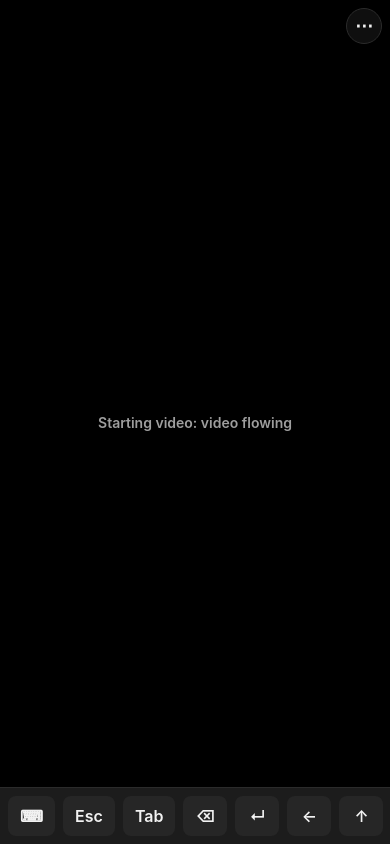
Test: RemoteScreen › the stats overlay › reports the live WebRTC numbers behind the Stats toggle
Click the text "⋯" at (364, 26), box [355,16,373,36]
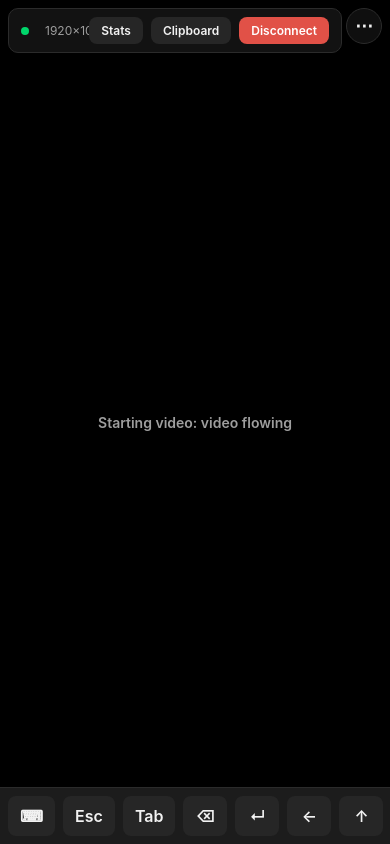
Click the text "Stats" at (116, 30), box [101,23,131,38]
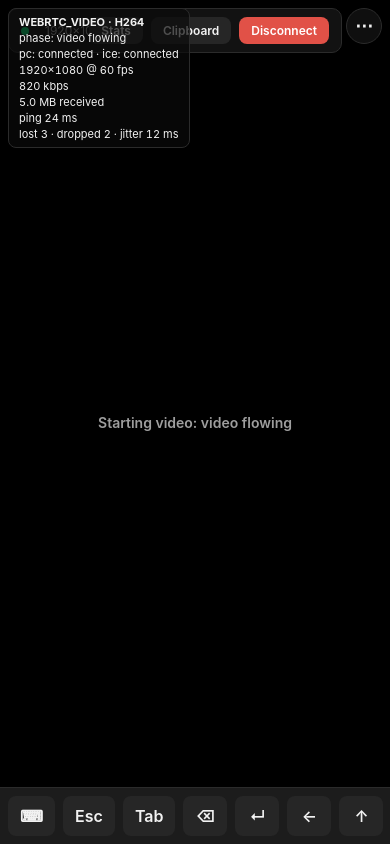
Now the text "WEBRTC_VIDEO · H264" is shown, box [19,15,144,29]
Now the text "phase: video flowing" is shown, box [19,31,126,45]
Now the text "pc: connected · ice: connected" is shown, box [19,47,179,61]
